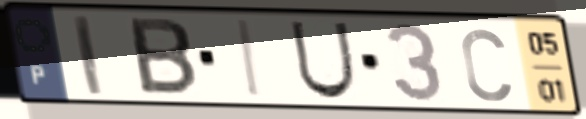3: (382, 20, 446, 106)
B: (125, 14, 201, 99)
C: (457, 24, 515, 104)
I: (68, 12, 108, 98), (236, 17, 266, 101)
U: (286, 18, 359, 102)
